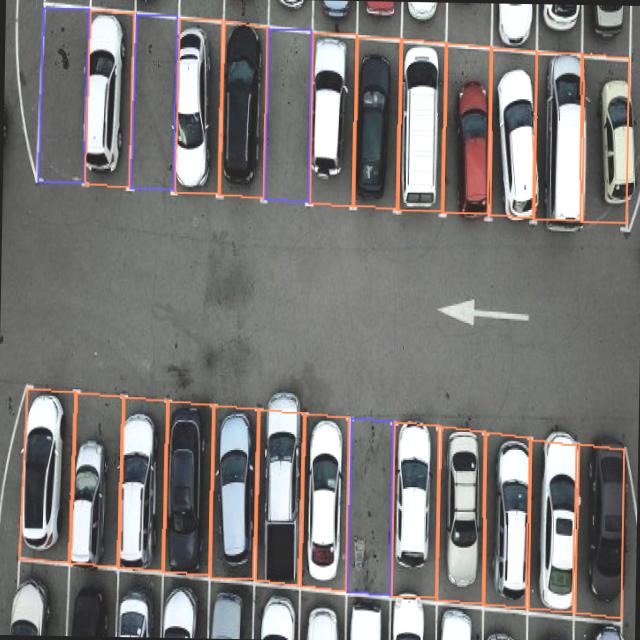car: (528, 433, 588, 612), (536, 50, 594, 223), (108, 393, 164, 571), (394, 38, 451, 212), (79, 5, 134, 184), (214, 18, 269, 196), (208, 406, 264, 580), (18, 388, 74, 560), (386, 420, 441, 594), (434, 426, 489, 600), (168, 15, 221, 194), (158, 400, 212, 574), (296, 412, 349, 588), (303, 31, 356, 204), (259, 417, 305, 588), (75, 390, 119, 568), (352, 42, 400, 205), (488, 50, 536, 204), (581, 442, 622, 616), (448, 46, 488, 218), (588, 58, 628, 222), (488, 442, 530, 592), (60, 562, 119, 634), (18, 556, 64, 636), (200, 578, 253, 638), (295, 587, 348, 639), (164, 578, 208, 638), (119, 573, 157, 637), (382, 597, 436, 640), (251, 590, 291, 640), (474, 607, 532, 640), (435, 599, 474, 640), (352, 600, 391, 640), (570, 622, 627, 640)
free: (29, 2, 91, 188), (259, 24, 314, 202), (342, 418, 396, 594), (127, 11, 180, 190)
